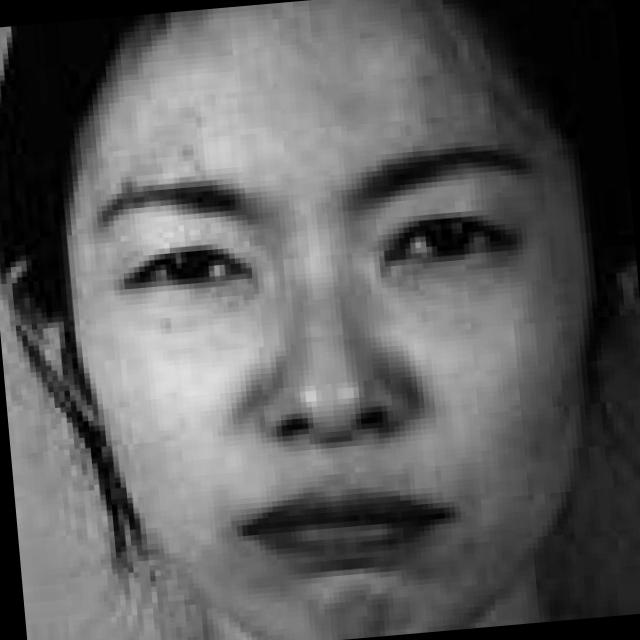disgust: (56, 29, 595, 640)
